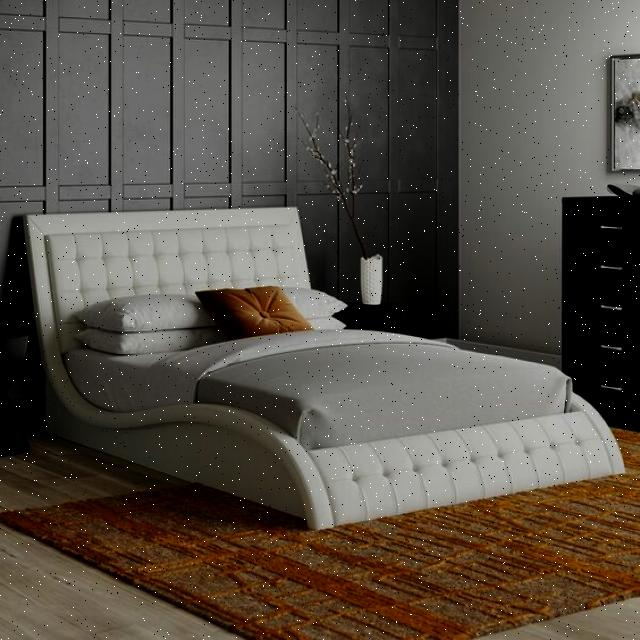bed: (58, 281, 602, 514)
